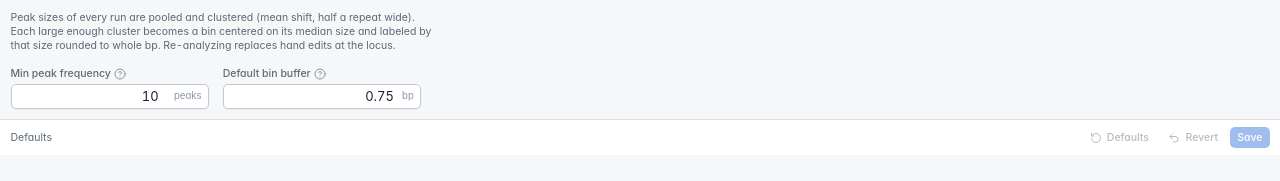
Test: ParameterForm › tracks dirty state, validates, saves only changes, reverts
This screenshot has width=1280, height=181.
Expected: the button "Save" is disabled, [1230,127,1270,148]
Step 1. Replace the text in the field labelled "Min peak frequency" with "2.5" → [110, 96], box [10,84,209,108]
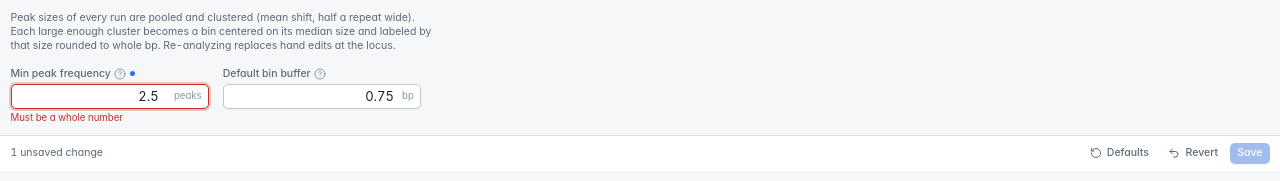
Expected: the button "Save" is disabled, [1230,142,1270,164]
Expected: the message reads "Must be a whole number", [10,112,123,123]
Step 2. Replace the text in the field labelled "Min peak frequency" with "12" → [110, 96], box [10,84,209,108]
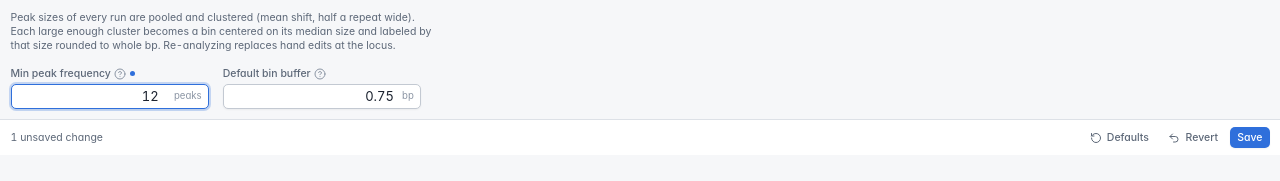
Expected: the text "1 unsaved change" is shown, [10,130,103,144]
Step 3. Click the button "Save" → [1250, 138], box [1230,127,1270,148]
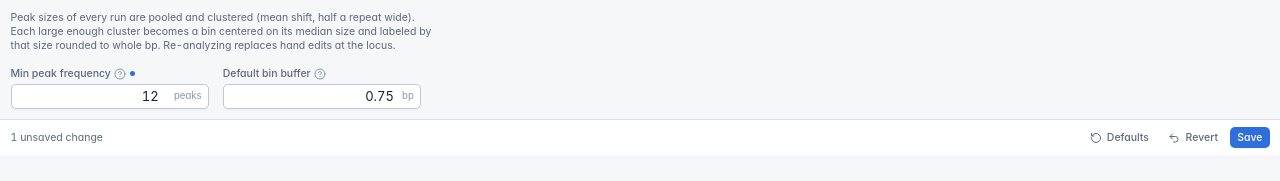
Step 4. Click the button "Revert" → [1193, 138], box [1161,127,1225,148]
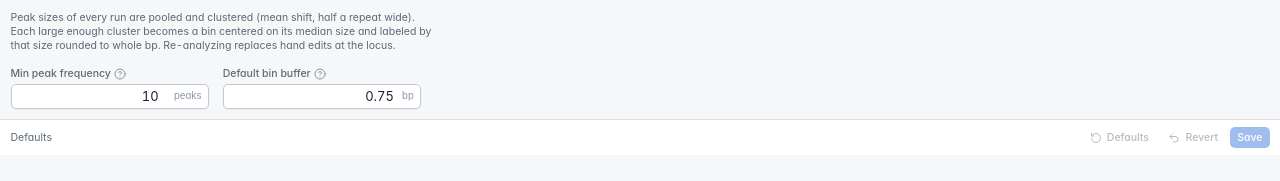
Expected: the field labelled "Min peak frequency" holds "10", [10,84,209,108]
